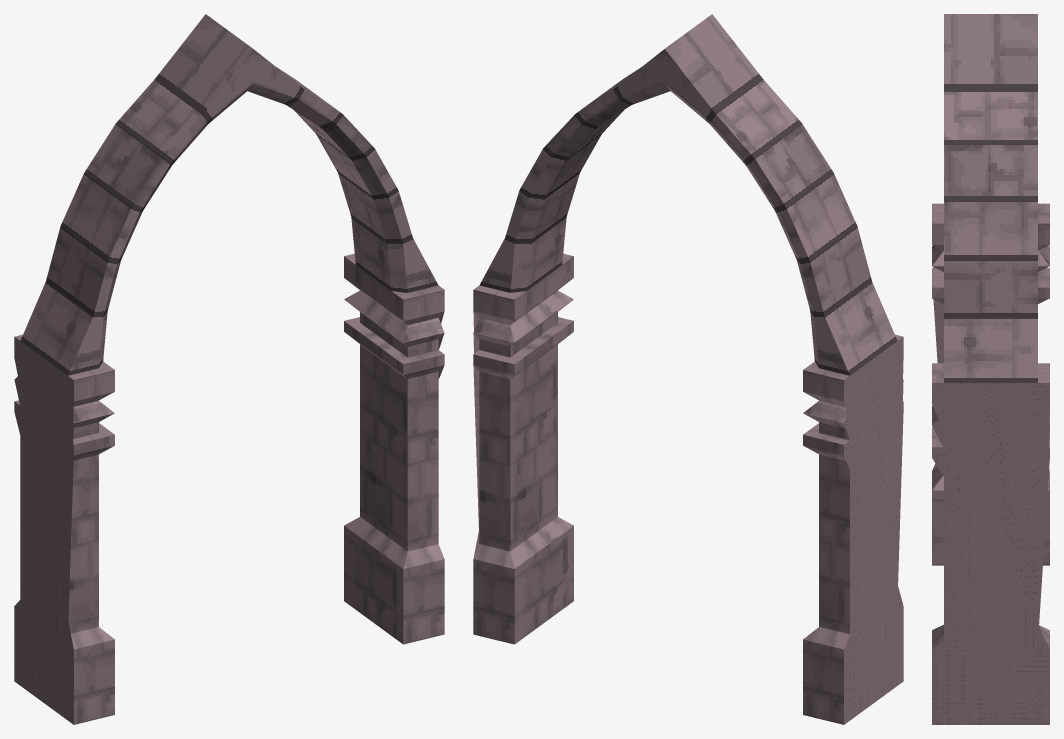
File: ceiling_arch_c.glb
3 views of the same model, side by side, from view 1: azimuth 30°, elevation 25°; view 2: azimuth 150°, elevation 25°; view 3: azimuth 270°, elevation 25° (orthographic).
Parts seen in each view (by area): view 1: arch, pillar_left, pillar_right; view 2: arch, pillar_right, pillar_left; view 3: pillar_right, arch, pillar_left.
Part boxes in pixels (bbox=[...]): arch: bbox=[20, 14, 438, 375]; pillar_left: bbox=[14, 334, 114, 724]; pillar_right: bbox=[344, 253, 444, 644]; arch: bbox=[479, 14, 897, 375]; pillar_right: bbox=[473, 253, 573, 644]; pillar_left: bbox=[803, 334, 903, 724]; pillar_right: bbox=[932, 363, 1049, 724]; arch: bbox=[944, 14, 1037, 382]; pillar_left: bbox=[932, 203, 1049, 565].
Bounding box in the file's own units: 2.25 × 3.63 × 0.625.
Materials: 1 (1 with a texture image).
